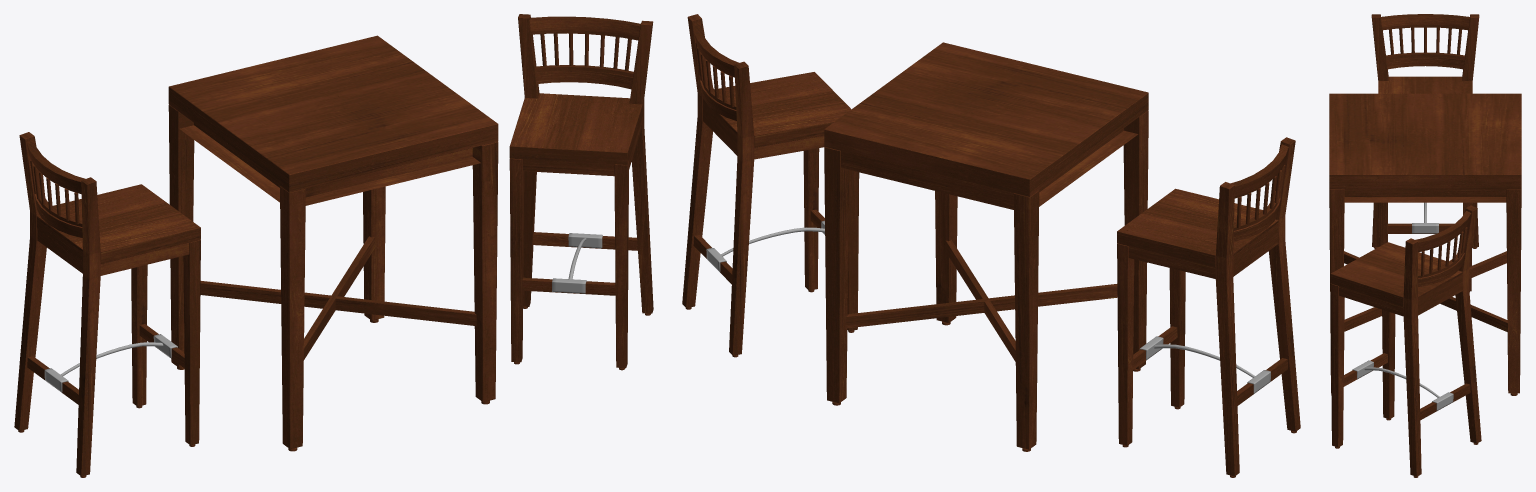
Rendered from bar_table_and_chairs.glb.
3 renders of one model, left to right at view 1: azimuth 30°, elevation 25°; view 2: azimuth 150°, elevation 25°; view 3: azimuth 270°, elevation 25°, orthographic. The views are drawn at different scales.
Parts seen in each view (by area): view 1: table_Cube, wood_stool_Cube.001, wood_stool.001_Cube.003, stool_support2_Cube.006, stool_support_Cube.005, stool_link2_Cube.004, stool_link_Cube.002; view 2: table_Cube, wood_stool_Cube.001, wood_stool.001_Cube.003, stool_support_Cube.005, stool_support2_Cube.006, stool_link_Cube.002, stool_link2_Cube.004; view 3: table_Cube, wood_stool.001_Cube.003, wood_stool_Cube.001, stool_support_Cube.005, stool_support2_Cube.006, stool_link2_Cube.004, stool_link_Cube.002.
Boxes of the visible parts, box(x1,y1,x2,y2) form: table_Cube: box(168, 35, 498, 451); wood_stool_Cube.001: box(14, 132, 200, 477); wood_stool.001_Cube.003: box(509, 14, 653, 370); stool_support2_Cube.006: box(529, 16, 640, 89); stool_support_Cube.005: box(26, 139, 85, 237); stool_link2_Cube.004: box(552, 233, 602, 293); stool_link_Cube.002: box(44, 334, 177, 392); table_Cube: box(824, 42, 1148, 451); wood_stool_Cube.001: box(1117, 137, 1300, 477); wood_stool.001_Cube.003: box(682, 14, 859, 357); stool_support_Cube.005: box(1230, 144, 1288, 241); stool_support2_Cube.006: box(693, 21, 738, 120); stool_link_Cube.002: box(1139, 336, 1270, 393); stool_link2_Cube.004: box(706, 220, 824, 271); table_Cube: box(1329, 93, 1521, 395); wood_stool.001_Cube.003: box(1330, 205, 1481, 477); wood_stool_Cube.001: box(1371, 14, 1479, 291); stool_support_Cube.005: box(1381, 14, 1469, 69); stool_support2_Cube.006: box(1415, 211, 1471, 286); stool_link2_Cube.004: box(1352, 360, 1453, 410); stool_link_Cube.002: box(1412, 202, 1438, 233).
Bounding box in the file's own units: 2.31 × 1.08 × 0.8.
Materials: 3 (2 with a texture image).
